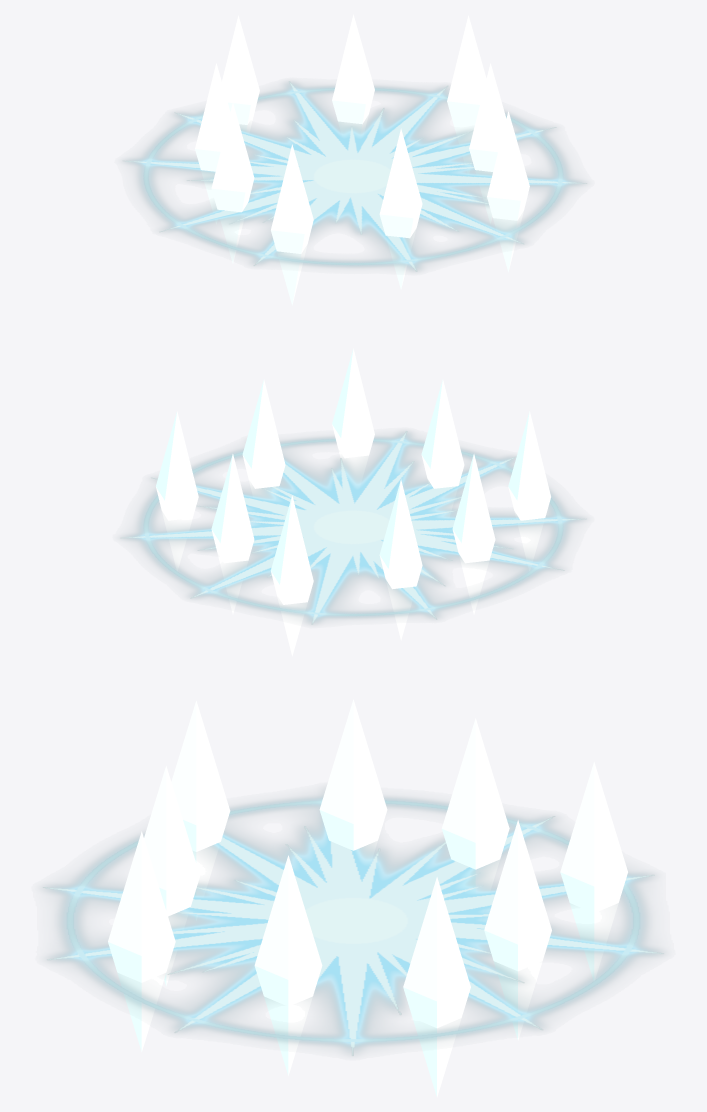
File: fx_frost_t3.glb
3 renders of one model, top to bottom at view 1: azimuth 30°, elevation 25°; view 2: azimuth 150°, elevation 25°; view 3: azimuth 270°, elevation 25°, orthographic. The views are drawn at different scales.
Visible parts, largest first — view 1: fx_frost_burst, fx_frost_spike; view 2: fx_frost_burst, fx_frost_spike; view 3: fx_frost_burst, fx_frost_spike.
Part boxes in pixels (<box>): fx_frost_burst: <box>122,81,586,271</box>; fx_frost_spike: <box>195,14,529,305</box>; fx_frost_burst: <box>120,431,586,624</box>; fx_frost_spike: <box>156,348,550,656</box>; fx_frost_burst: <box>42,790,664,1055</box>; fx_frost_spike: <box>108,699,627,1097</box>.
Size of the model in its own units: 1 by 0.36 by 1.
Materials: 2 (1 with a texture image).
